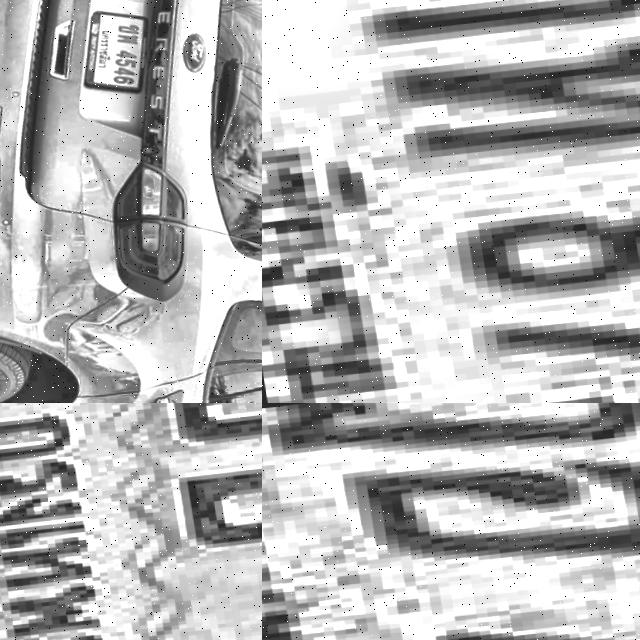license-plate: (262, 0, 640, 403), (262, 403, 640, 640), (0, 403, 262, 640), (70, 6, 163, 103)
